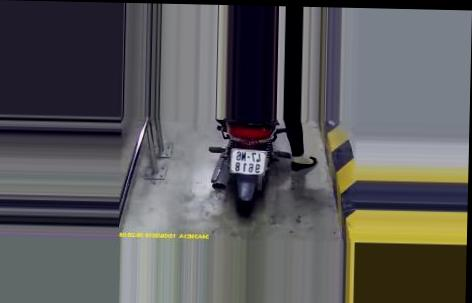License_Plate: (224, 146, 270, 179)
